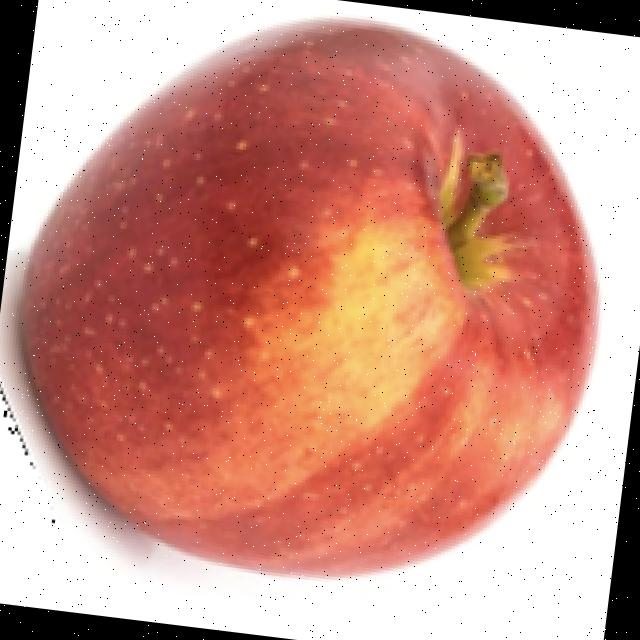apple: (0, 11, 605, 584)
